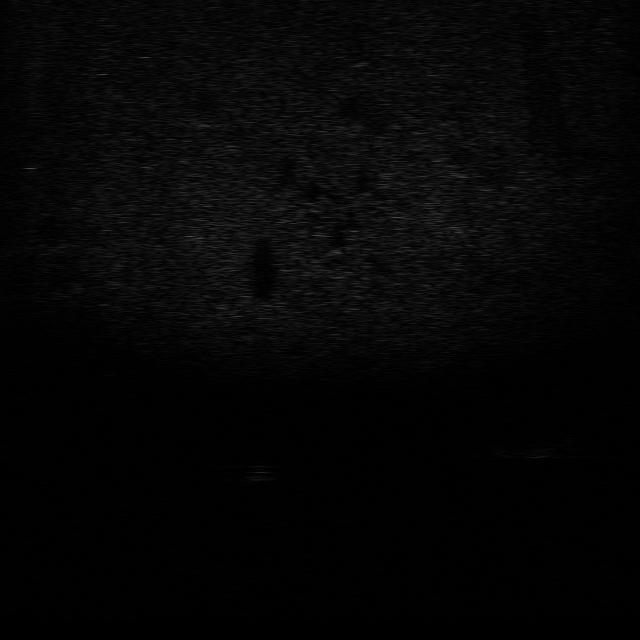ball: (242, 459, 280, 486)
human body: (495, 438, 579, 461)
